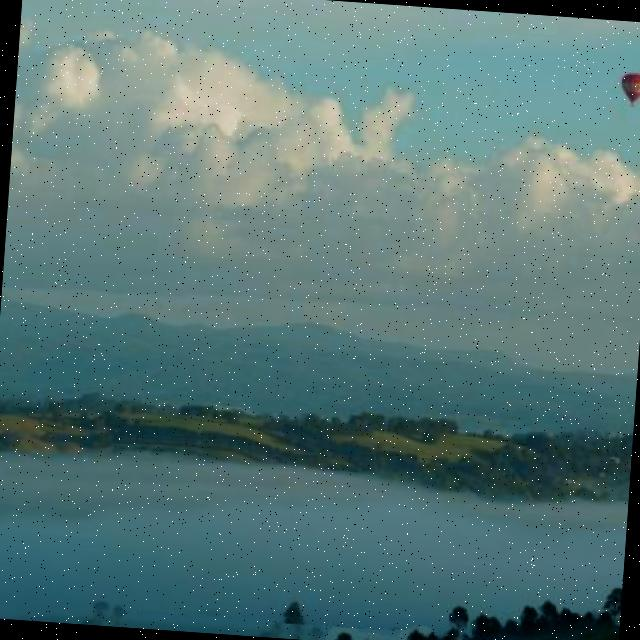Cu: (2, 1, 577, 337)
